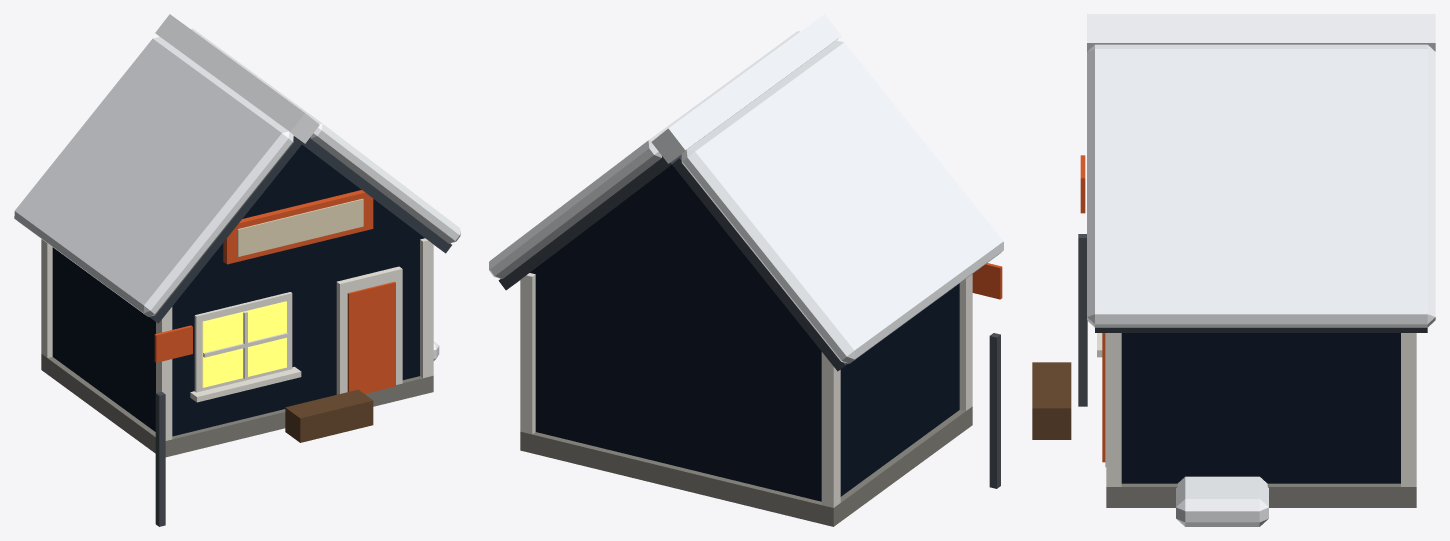
Rendered from ski-school-desk.glb.
3 views of the same model, side by side, from view 1: azimuth 30°, elevation 25°; view 2: azimuth 150°, elevation 25°; view 3: azimuth 270°, elevation 25° (orthographic). The views are drawn at different scales.
Visible parts, largest first — view 1: ski-school-desk; view 2: ski-school-desk; view 3: ski-school-desk.
Boxes of the visible parts, x1,y1,x2,y2 form: ski-school-desk: (14,14,460,526); ski-school-desk: (489,14,1003,526); ski-school-desk: (1032,14,1435,526).
Bounding box in the file's own units: 6.33 × 6.86 × 5.2.
